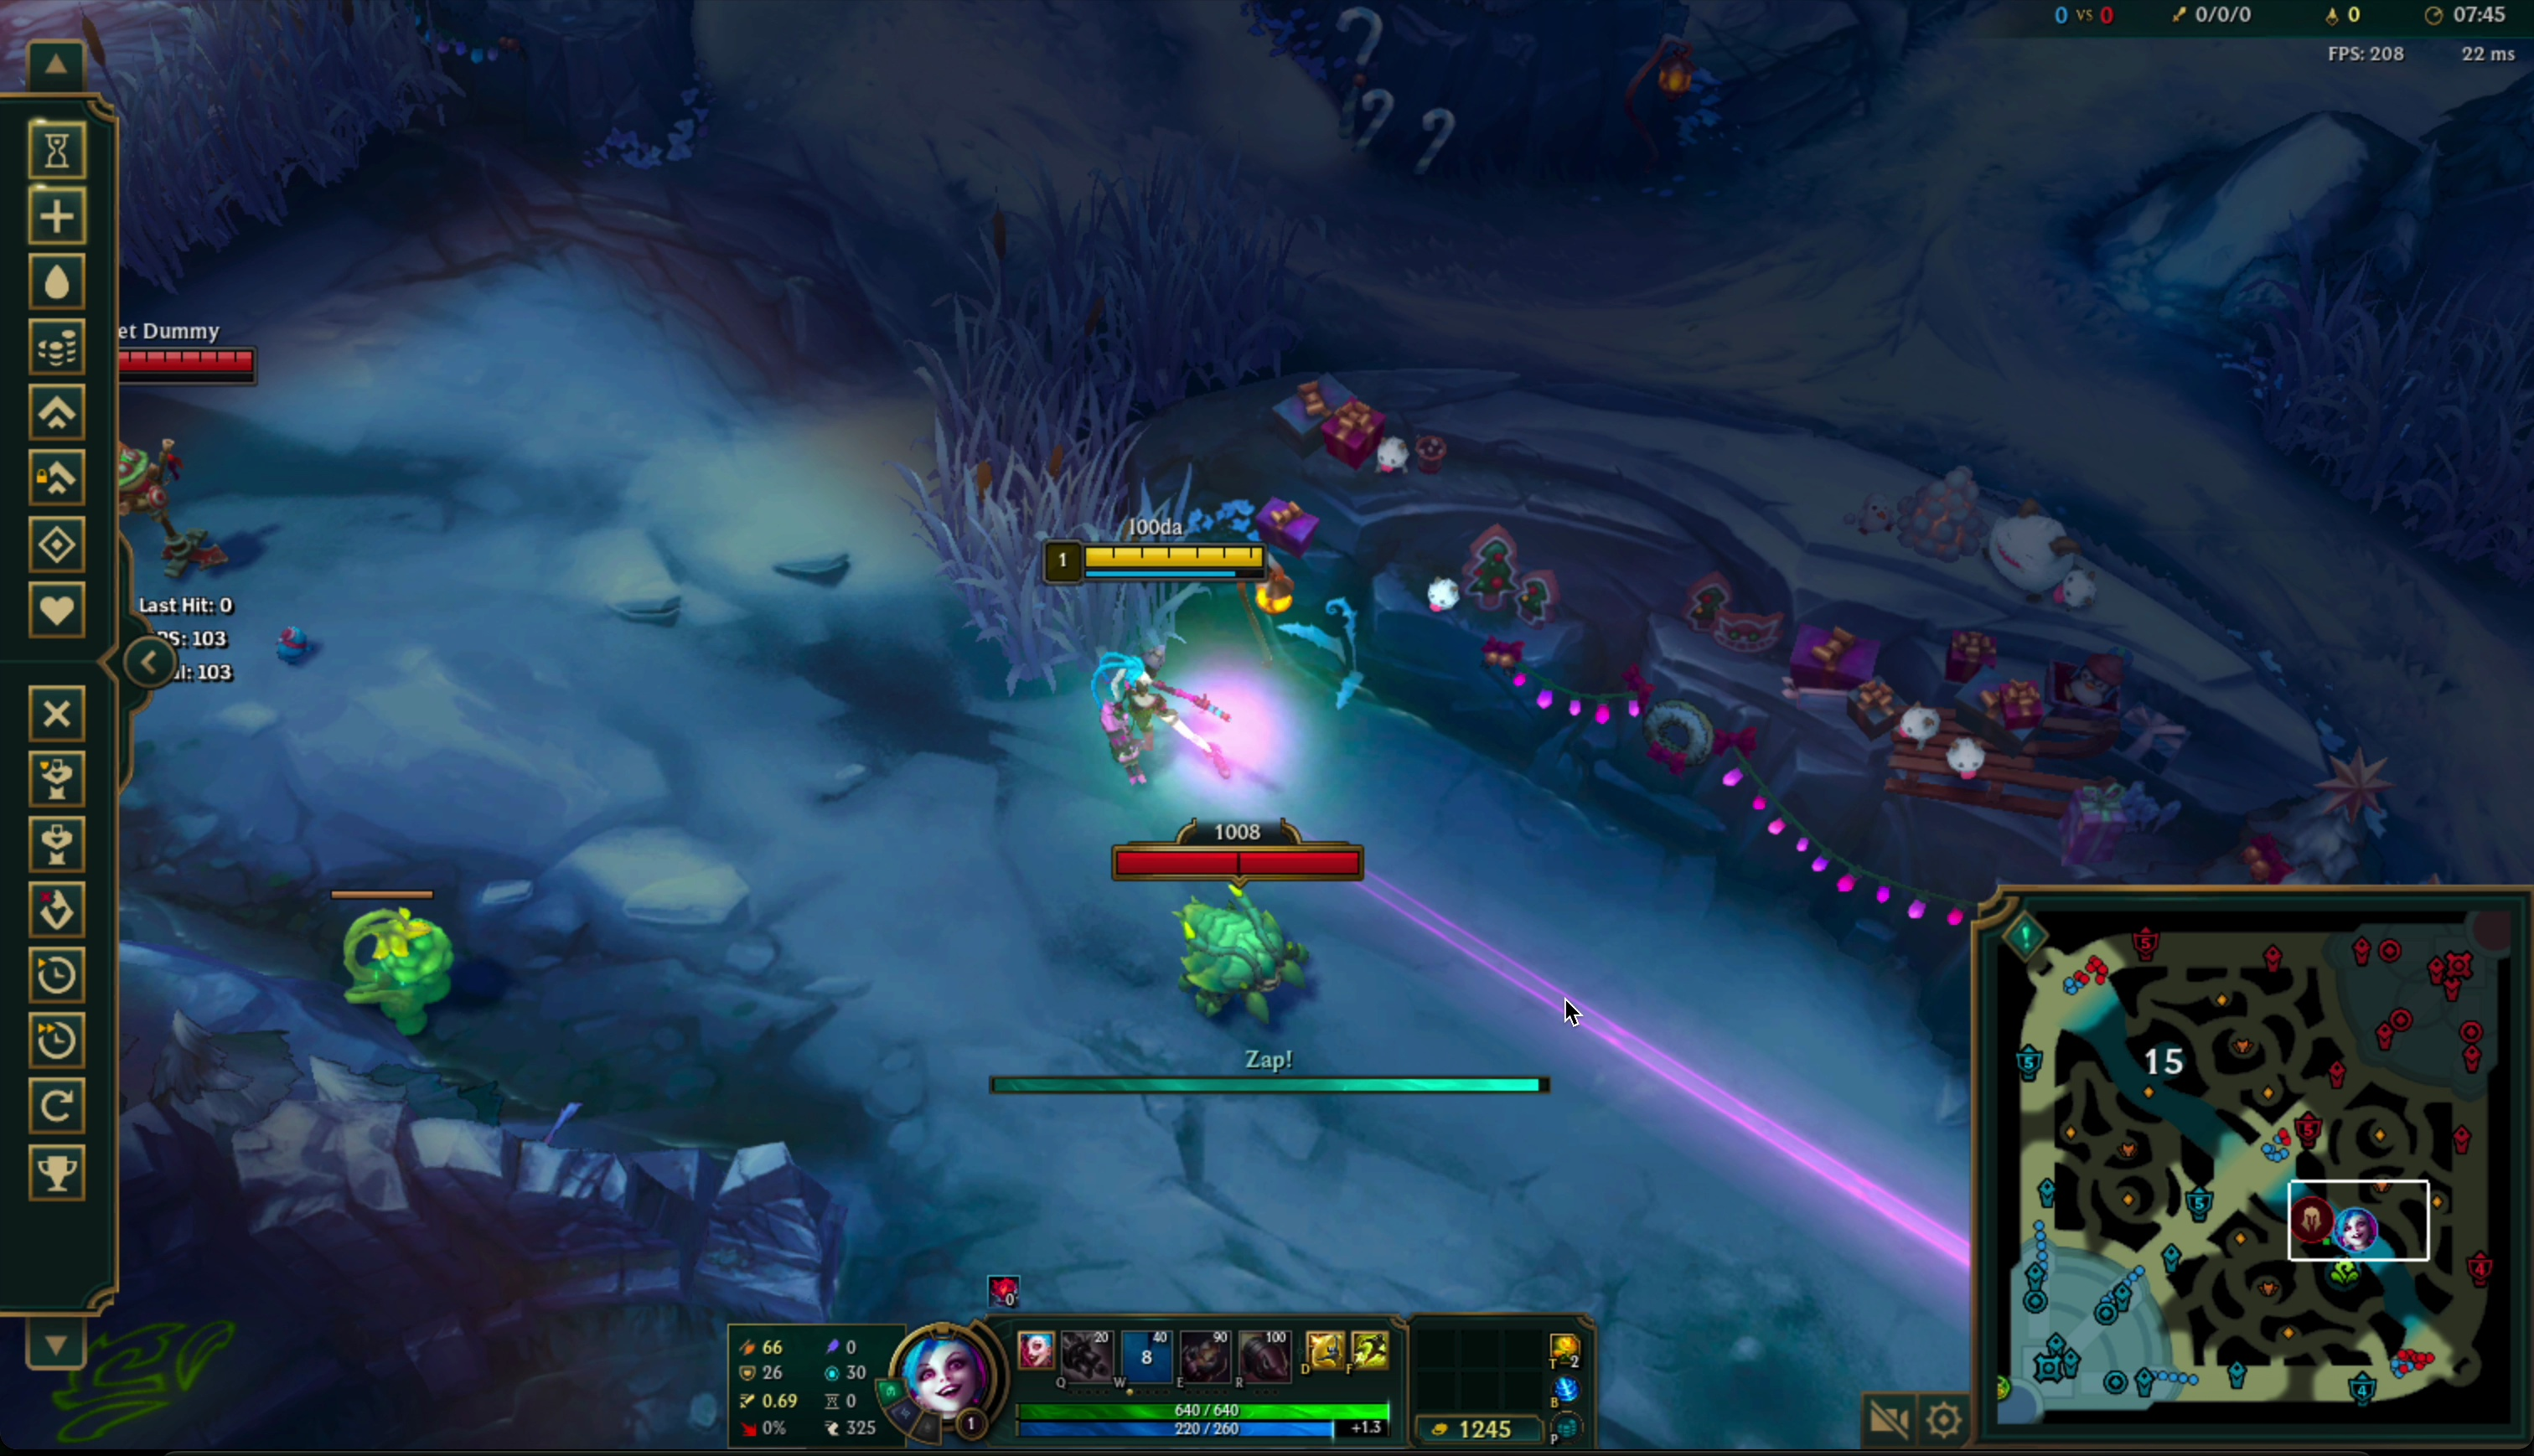JINX_W_PROJECTILE: (1016, 480, 1965, 1305)
